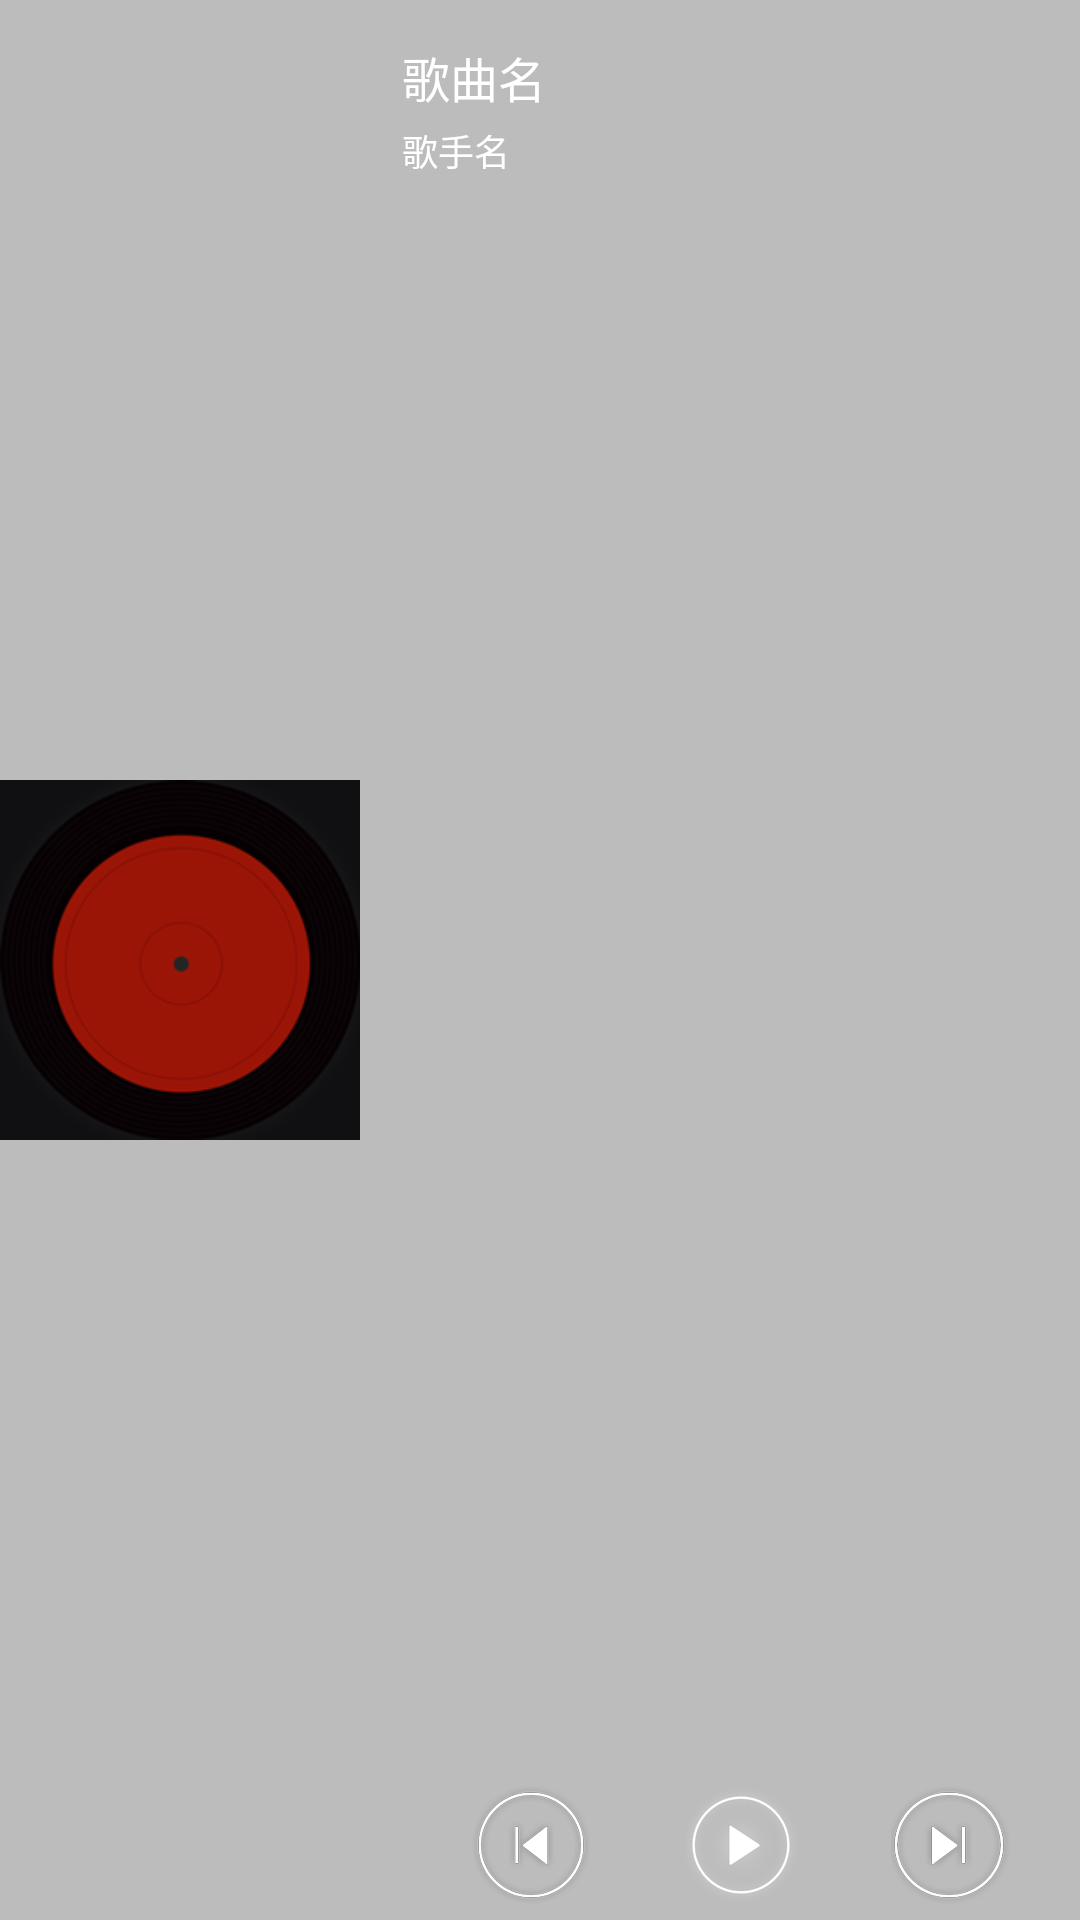

Icons on this 1080 × 1920 Android screen, each with the point to tap as [x,y]:
next: [949,1845]
play: [741,1845]
pre: [531,1845]
